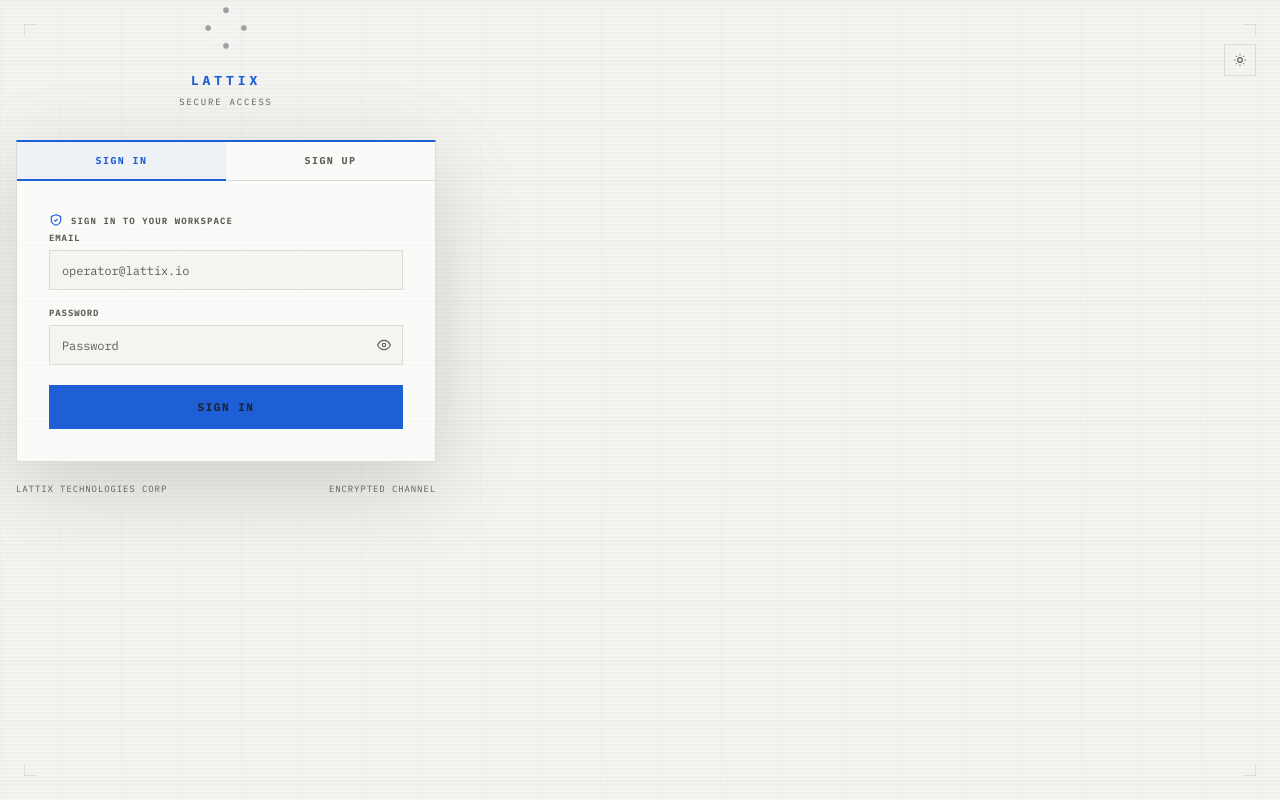
Test: LattixAuthCard › surfaces the server error when credentials are rejected
Type "bad@lattix.io" into the field labelled "Email". click: {"x": 226, "y": 270}
box: x1=49 y1=250 x2=403 y2=290
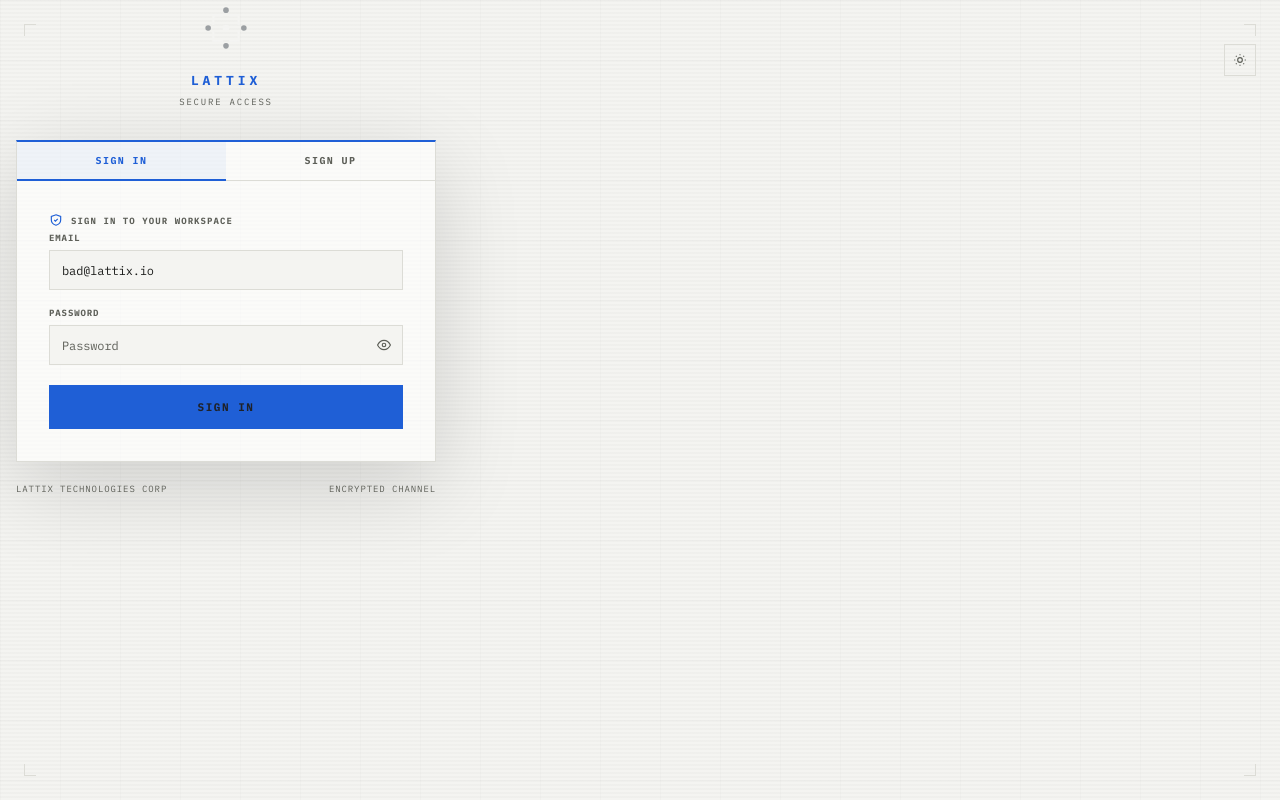
Type "nope" into the password field labelled "Password". click: {"x": 226, "y": 346}
box: x1=49 y1=326 x2=403 y2=366
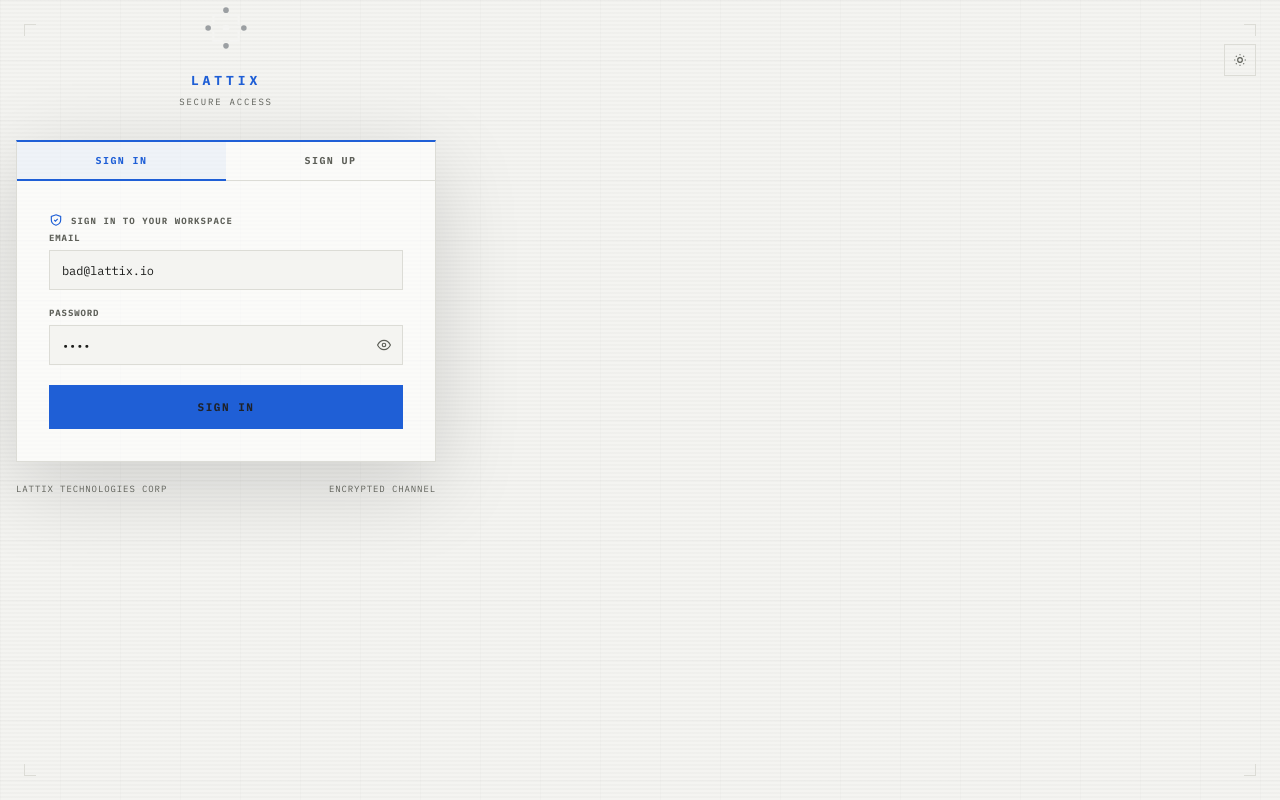
Click the button "Sign In". click: {"x": 226, "y": 408}
box: x1=49 y1=386 x2=403 y2=430
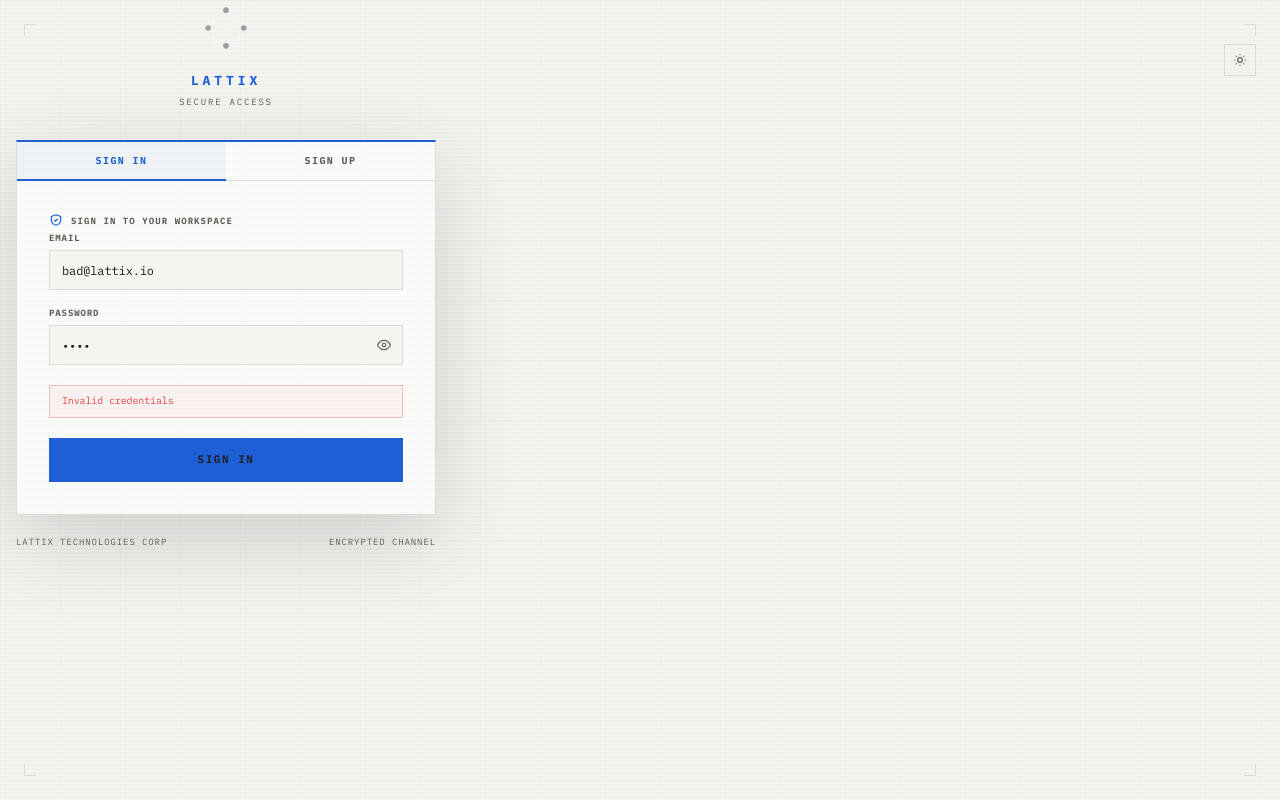
Expected: the message reads "Invalid credentials", x1=62 y1=394 x2=174 y2=408
